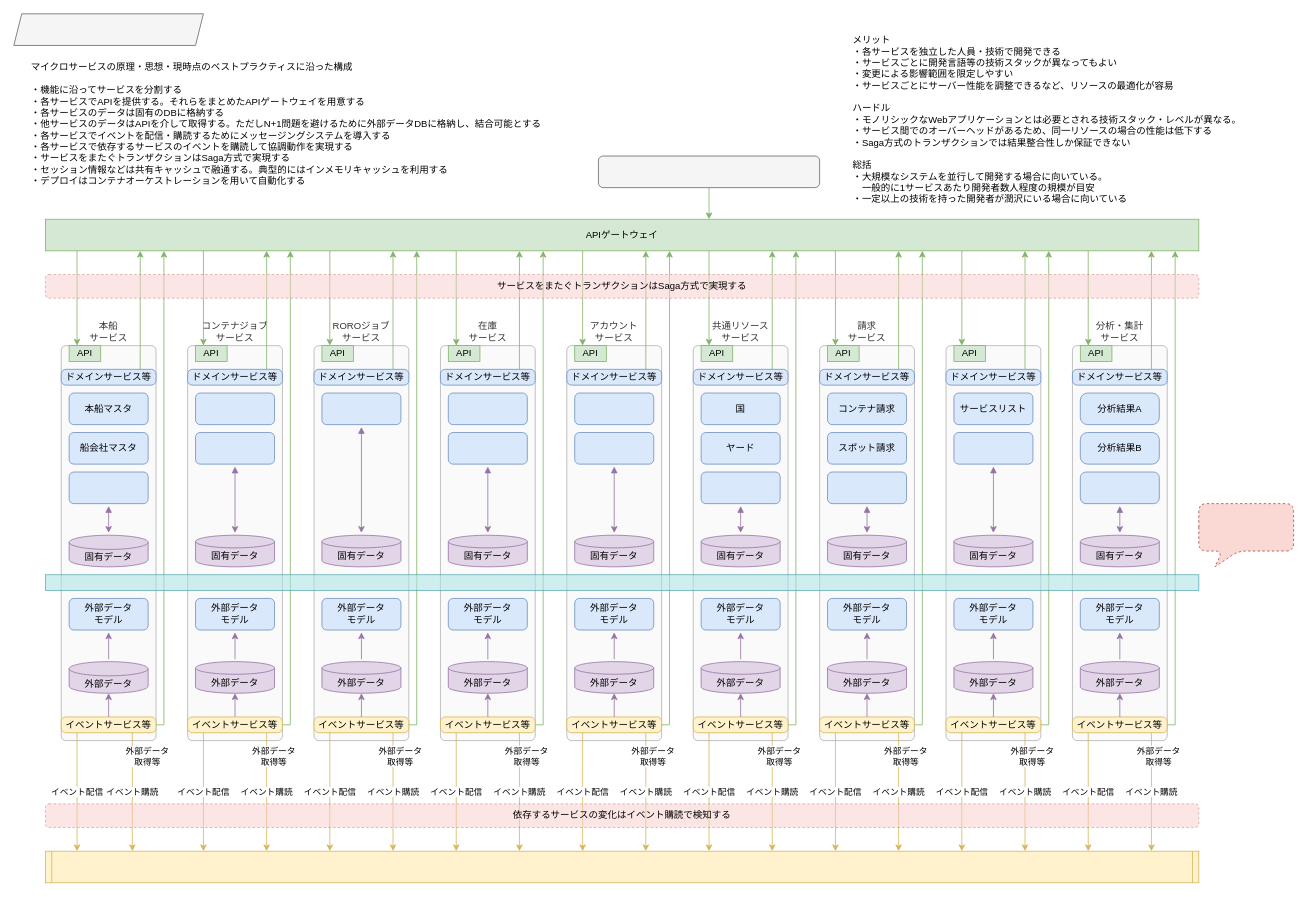
This 1307x897 diagram has some shape labels left out. Each missing label, with the box of its shape:
etc...: (700, 471, 780, 504)
ROROジョブ: (321, 392, 401, 425)
RORO請求: (827, 471, 907, 504)
クライアントアプリケーション: (598, 155, 820, 188)
コンテナジョブ: (195, 392, 275, 425)
コンテナジョブスケジュール: (195, 432, 275, 464)
サービス方式概要図（原理主義版）: (13, 13, 203, 45)
セッション情報などは共有キャッシュで融通する: (1198, 503, 1294, 567)
メッセージングシステム: (45, 850, 1199, 883)
ユーザー: (574, 392, 654, 425)
事業所: (574, 432, 654, 464)
共有キャッシュシステム: (45, 574, 1199, 591)
本船スケジュール: (68, 471, 148, 504)
見積 （価格表）: (953, 432, 1033, 464)
販売管理 サービス: (945, 345, 1041, 741)
車両: (448, 392, 527, 425)
車種: (448, 432, 527, 464)
集計結果A: (1080, 471, 1159, 504)
